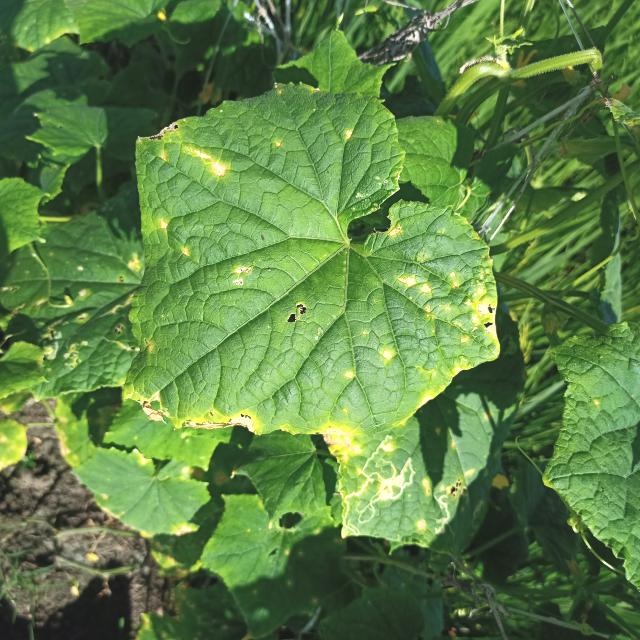disease_cucumber: (396, 259, 496, 341), (157, 130, 233, 182), (196, 409, 262, 433), (228, 263, 249, 288), (390, 224, 404, 237), (380, 351, 394, 363), (344, 130, 354, 144), (182, 248, 190, 261), (160, 220, 168, 228)
